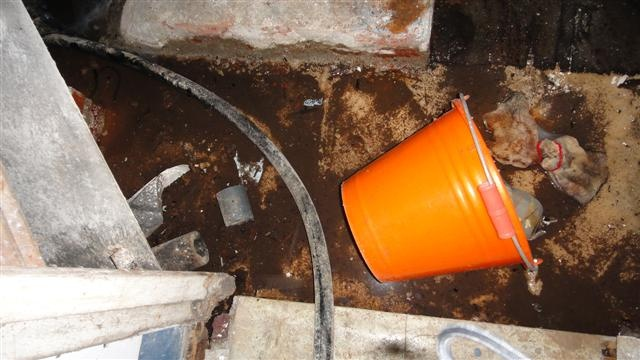bucket: (338, 94, 539, 286)
